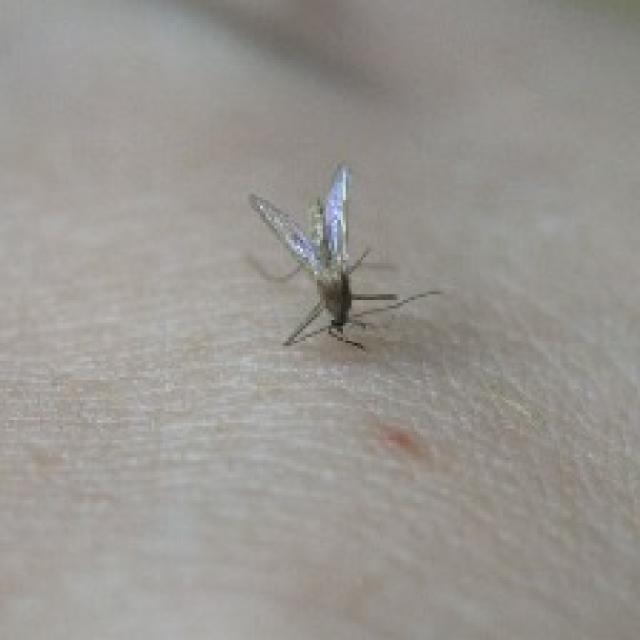culex: (243, 160, 440, 351)
